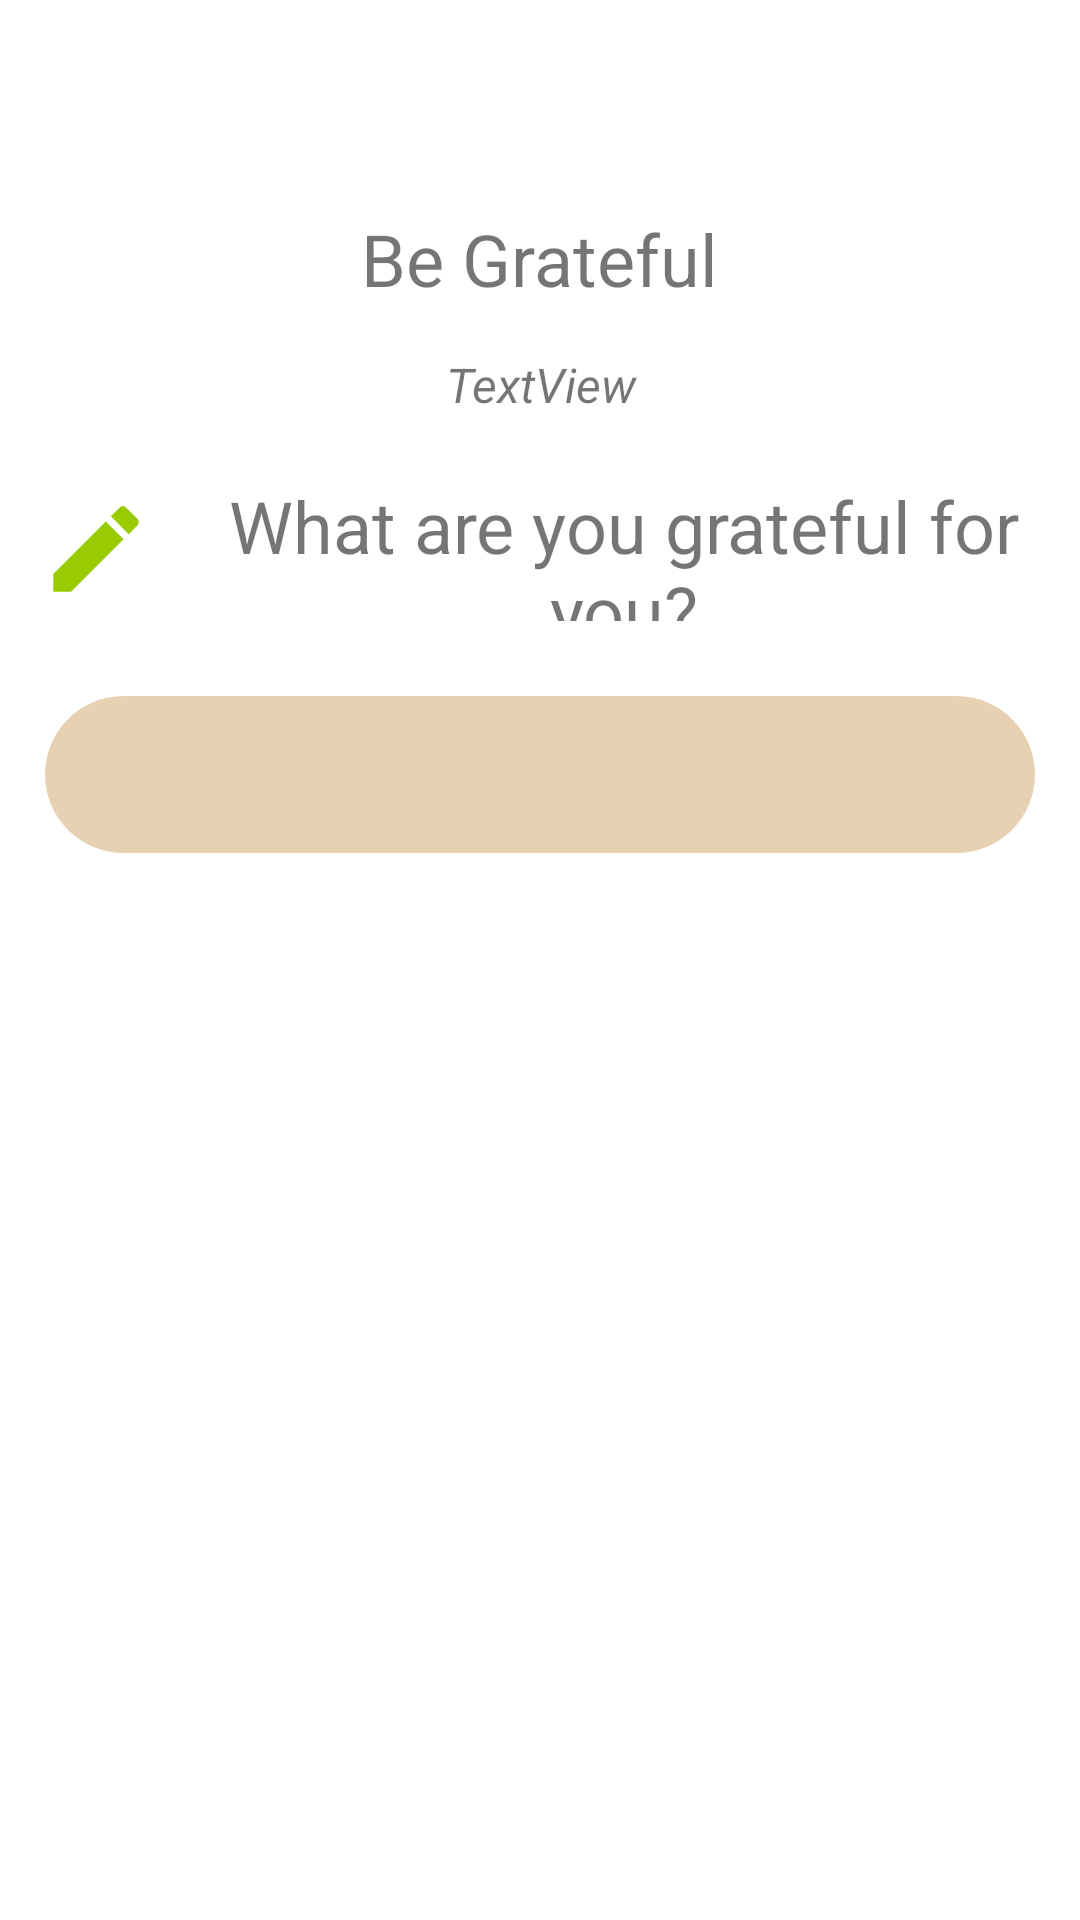

Screen size 1080×1920. Icon name, then its center in pixels as [x,y]:
edit: [96,549]
